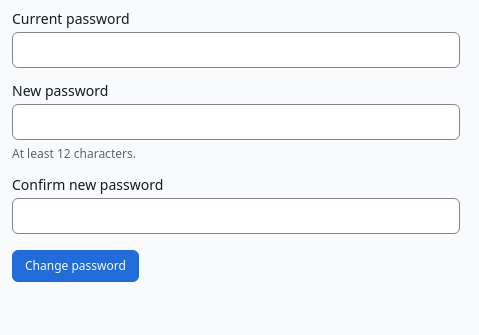
Test: ChangePasswordForm › submits the three fields through the action it was given
Step 1. Type "old-password-1" into the password field labelled "Current password" → (236, 50), box x1=12 y1=32 x2=460 y2=68
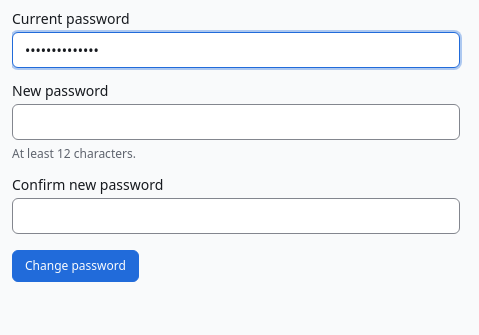
Step 2. Type "new-password-123" into the password field labelled "New password" → (236, 122), box x1=12 y1=104 x2=460 y2=140
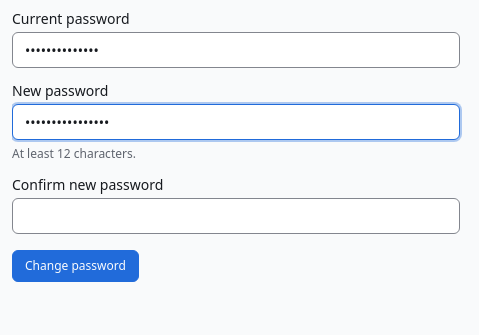
Step 3. Type "new-password-123" into the password field labelled "Confirm new password" → (236, 216), box x1=12 y1=198 x2=460 y2=234
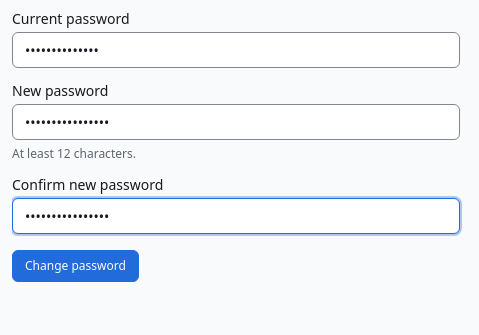
Step 4. Click the button "Change password" → (75, 266), box x1=12 y1=250 x2=139 y2=282
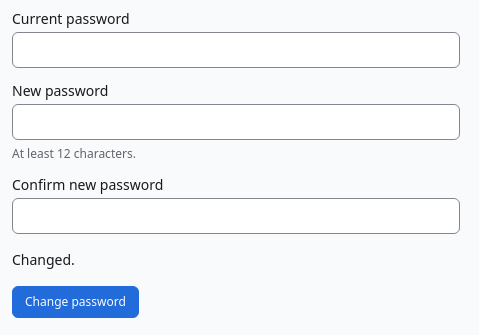
Expected: the message reads "Changed.", x1=12 y1=250 x2=75 y2=269
